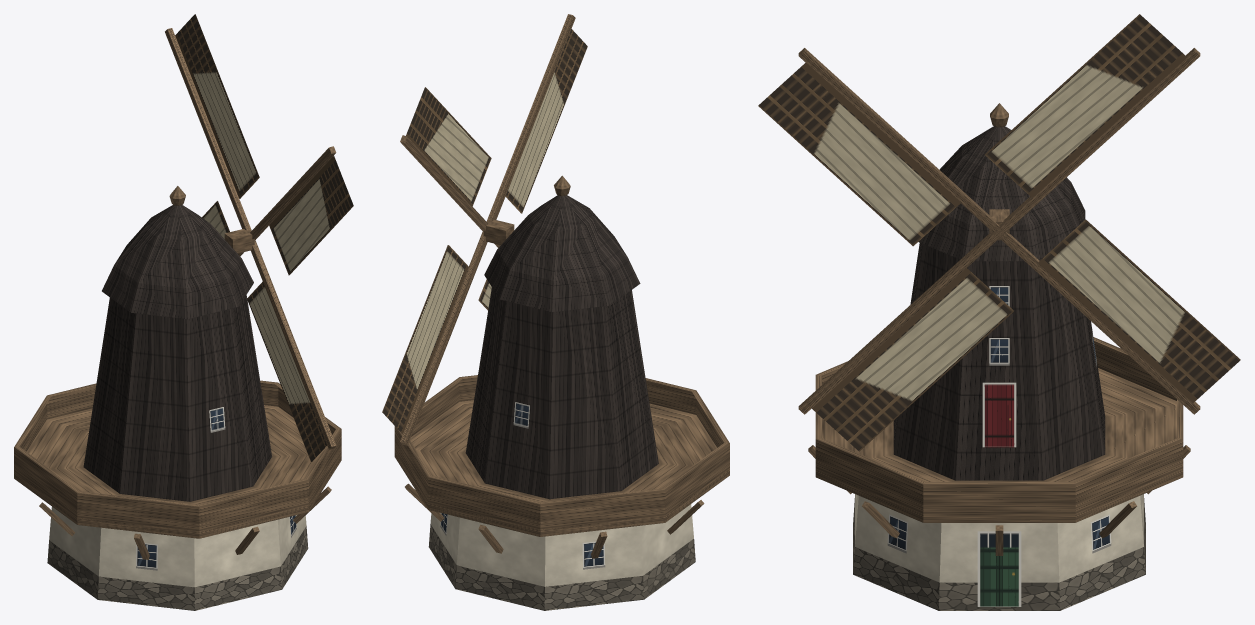
File: SM_Windmill.fbx
3 renders of one model, left to right at view 1: azimuth 30°, elevation 25°; view 2: azimuth 150°, elevation 25°; view 3: azimuth 270°, elevation 25°, orthographic. The views are drawn at different scales.
Visible parts, largest first — view 1: SM_Windmill; view 2: SM_Windmill; view 3: SM_Windmill.
Part boxes in pixels (x1,y1,x2,y2): SM_Windmill: (14,14,353,610); SM_Windmill: (382,14,729,610); SM_Windmill: (758,14,1240,610).
Bounding box in the file's own units: 1133 × 1431 × 1896.
1 material, 1 textured.
